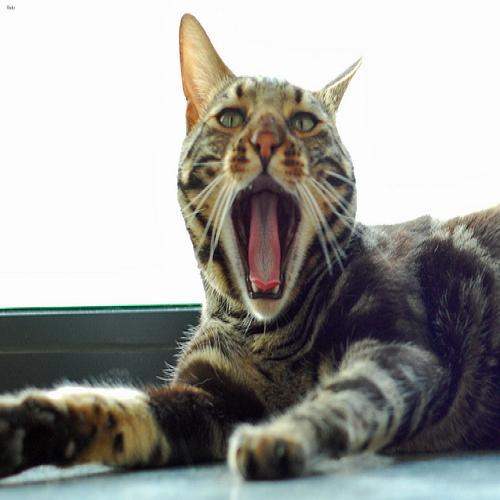cat-face: (157, 13, 375, 337)
